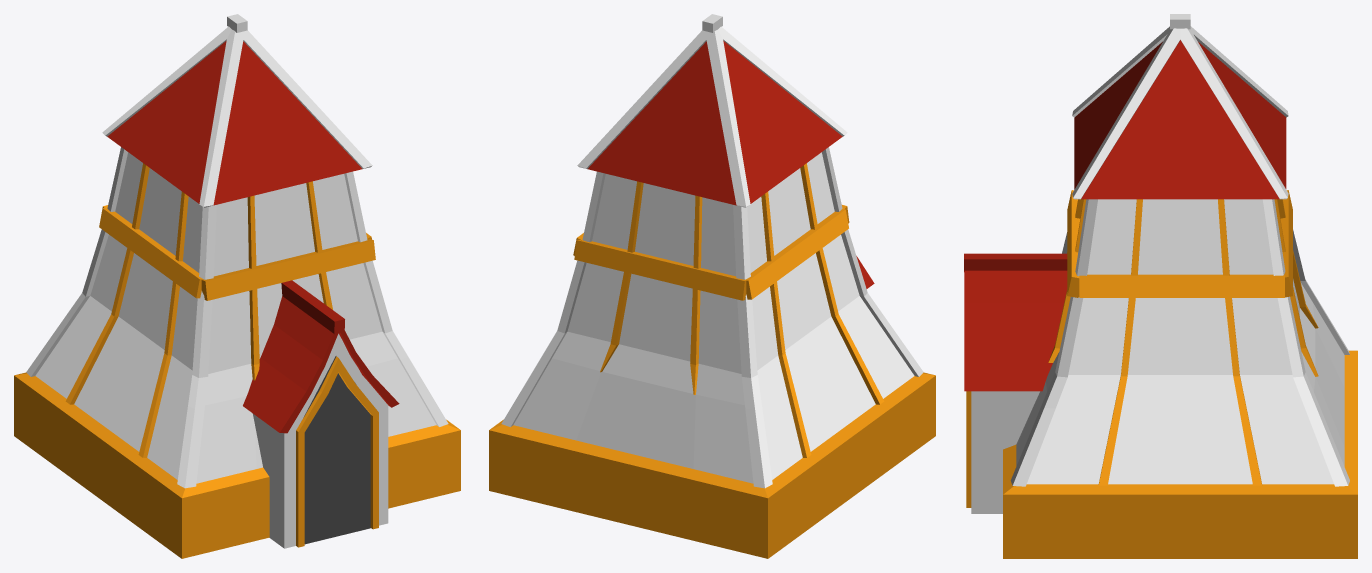
Rendered from House_11.FBX.
The picture shows the model from 3 angles, left to right: view 1: azimuth 30°, elevation 25°; view 2: azimuth 150°, elevation 25°; view 3: azimuth 270°, elevation 25°; orthographic projection. The views are drawn at different scales.
Parts seen in each view (by area): view 1: House_11; view 2: House_11; view 3: House_11.
Part boxes in pixels (x1,y1,x2,y2): House_11: [14, 14, 460, 558]; House_11: [489, 14, 935, 558]; House_11: [964, 14, 1357, 558].
Bounding box in the file's own units: 6.08 × 9.27 × 7.02.
1 material, 1 textured.
